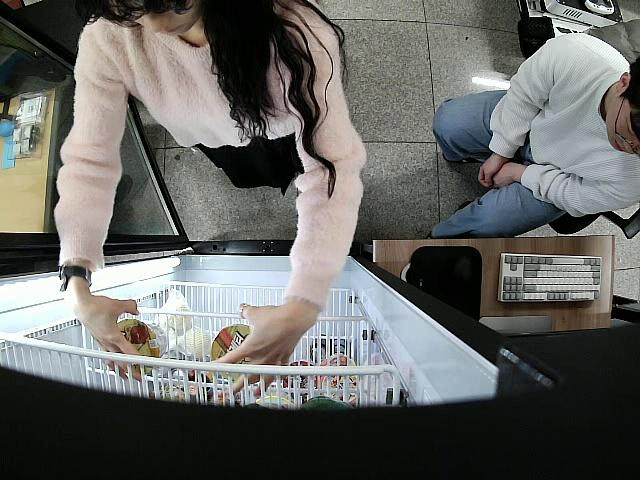00_hand: (204, 301, 297, 396), (71, 294, 148, 379)
04_chapagetti_S: (114, 317, 169, 370), (211, 324, 262, 381)
